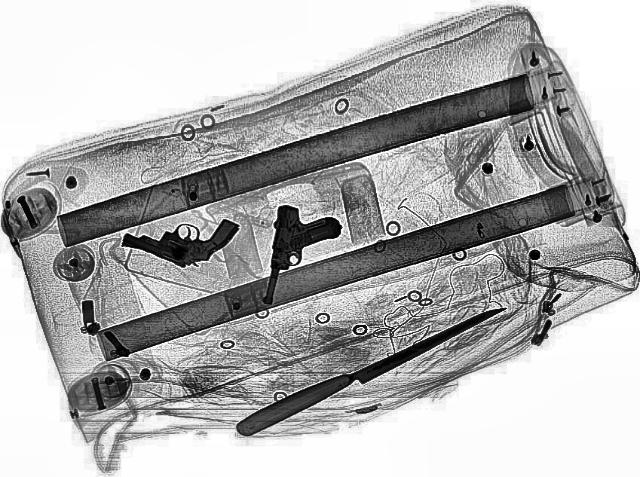Gun: (114, 194, 243, 276), (258, 202, 344, 308)
Knife: (228, 298, 510, 438)
